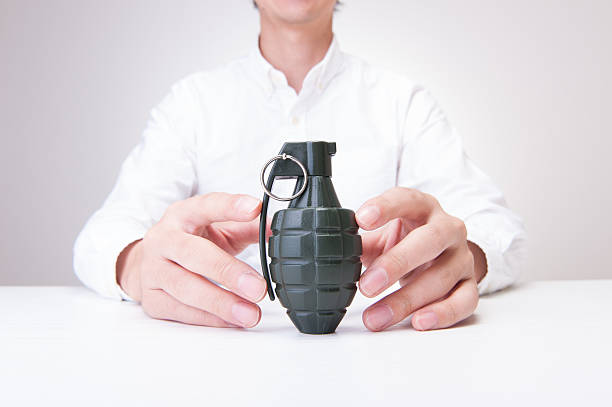e1: (259, 140, 364, 334)
